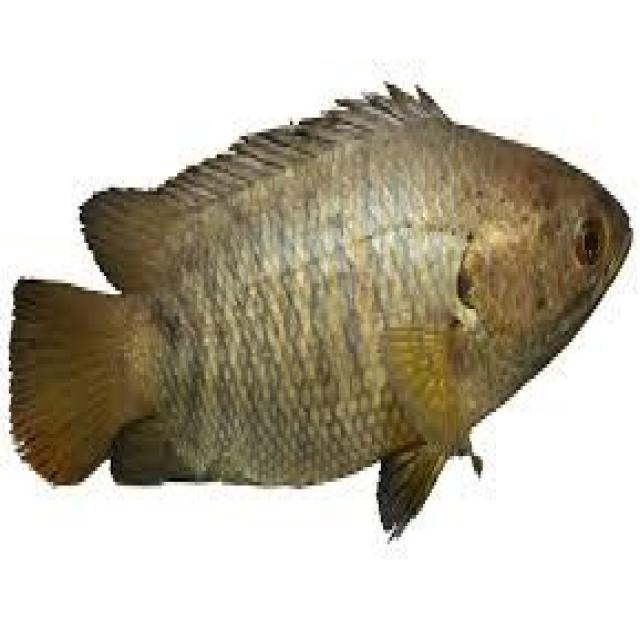Climbing-Perch: (5, 64, 636, 550)
